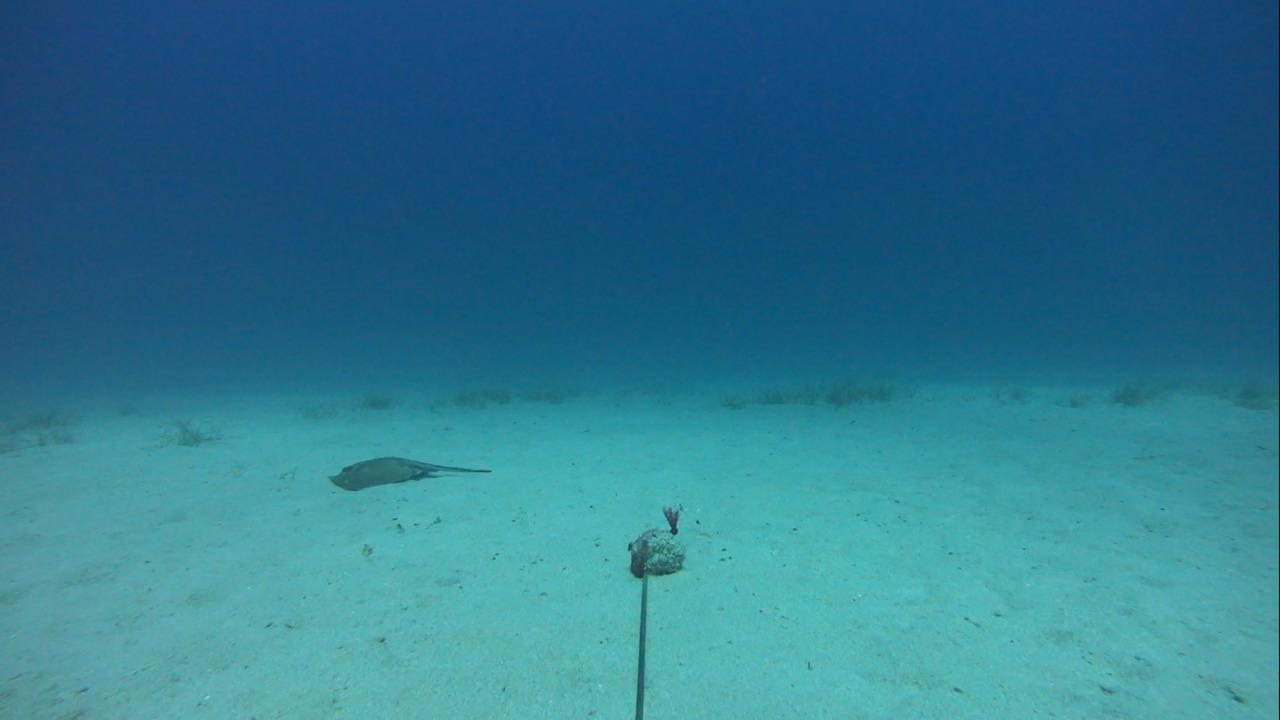myliobatis: (328, 450, 489, 502)
